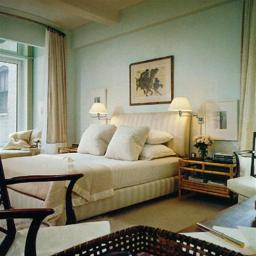Cama: (12, 133, 169, 211)
